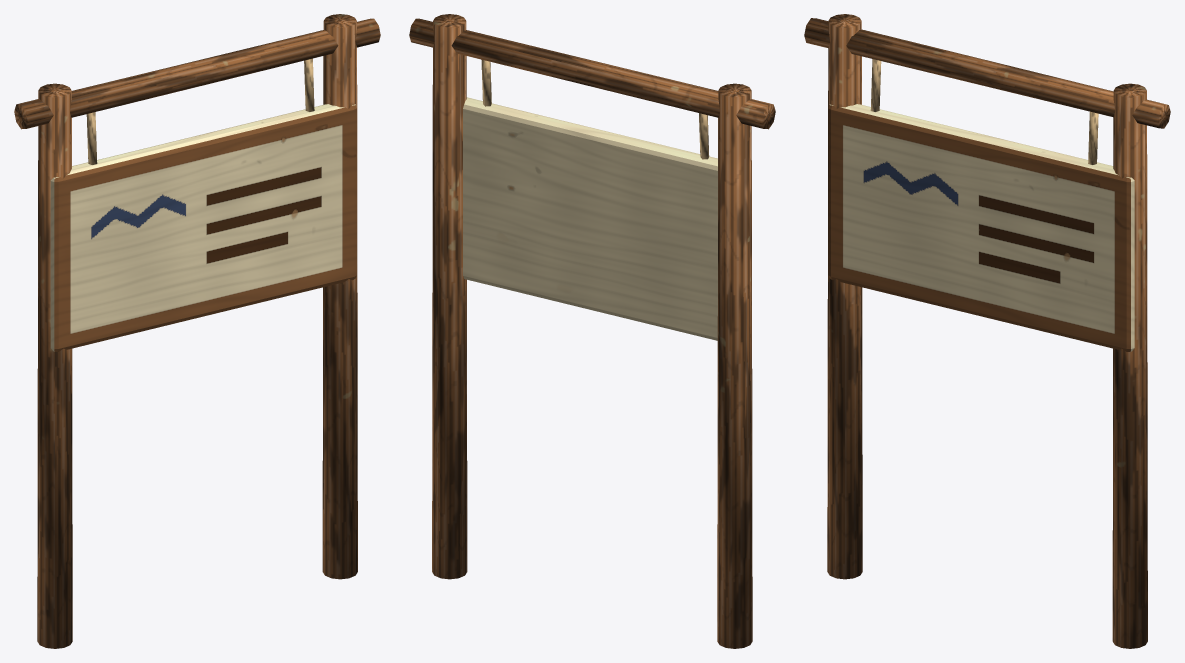
File: sign_camp.glb
The picture shows the model from 3 angles, left to right: view 1: azimuth 30°, elevation 25°; view 2: azimuth 150°, elevation 25°; view 3: azimuth 330°, elevation 25°; orthographic projection.
Visible parts, largest first — view 1: SignCamp; view 2: SignCamp; view 3: SignCamp.
Boxes of the visible parts, x1,y1,x2,y2 form: SignCamp: (14,14,380,648); SignCamp: (409,14,775,648); SignCamp: (804,14,1170,648).
Size of the model in its own units: 1.04 by 1.55 by 0.09.
1 material, 1 textured.
